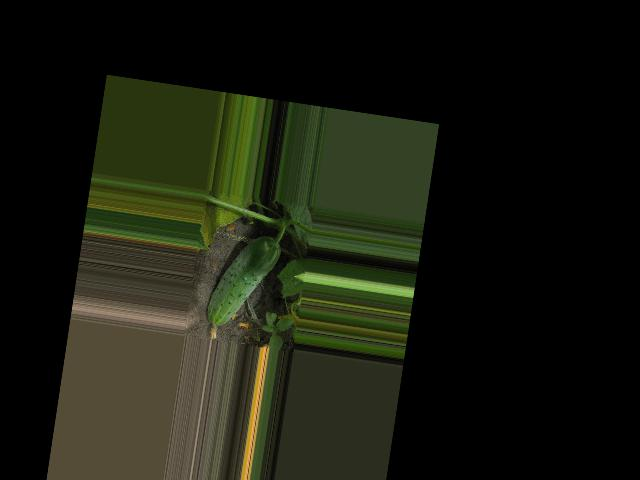cucumber: (202, 229, 282, 347)
